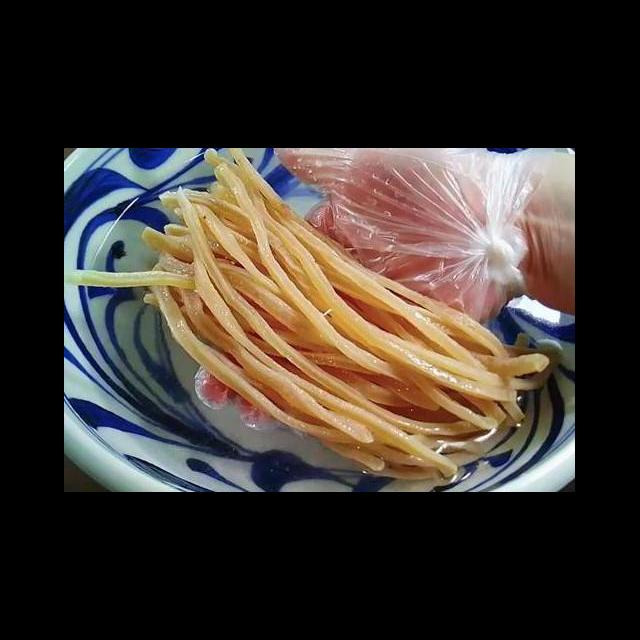mi: (138, 149, 552, 484)
